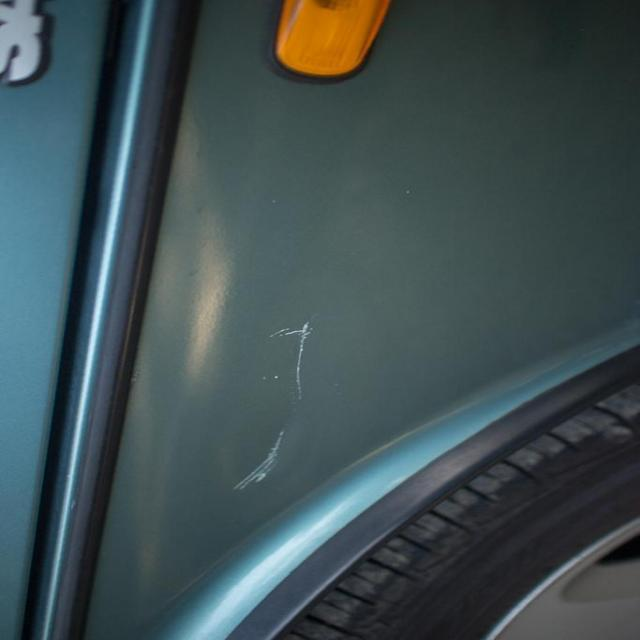scratch: (194, 304, 338, 504)
